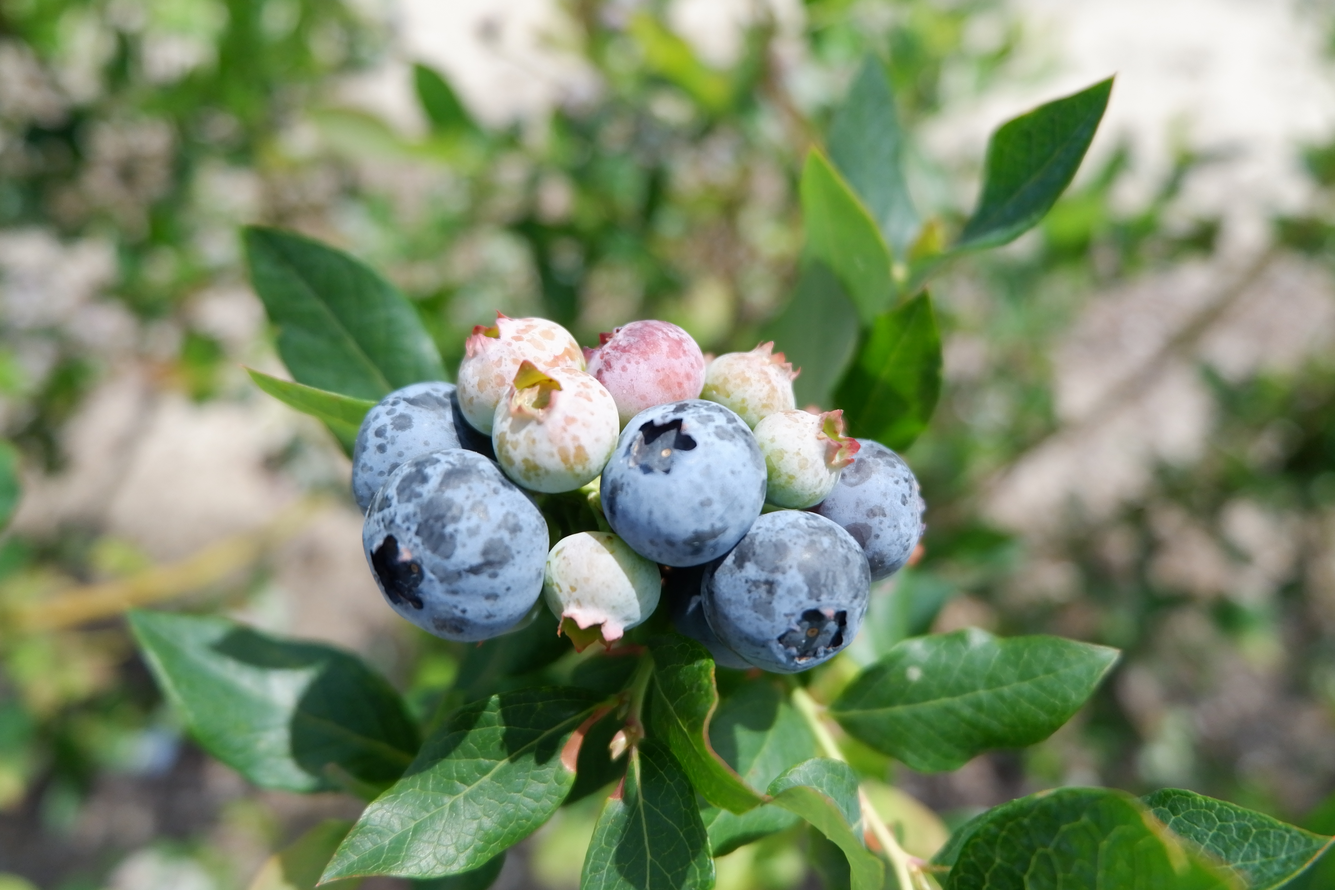Immature: (492, 371, 615, 494), (457, 315, 579, 432), (547, 532, 659, 648), (590, 322, 705, 423), (758, 411, 850, 507), (702, 345, 799, 430)
Mature: (366, 449, 546, 640), (603, 404, 762, 564), (709, 510, 865, 669), (353, 382, 488, 509), (809, 441, 923, 581), (666, 565, 753, 665)
